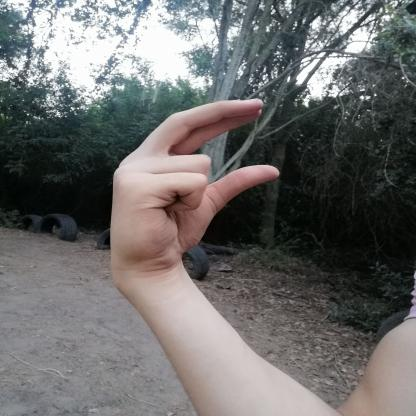DHELL: (96, 88, 296, 284)
